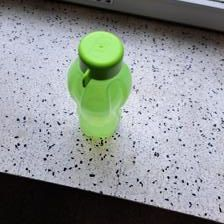bottle: (68, 29, 135, 143)
